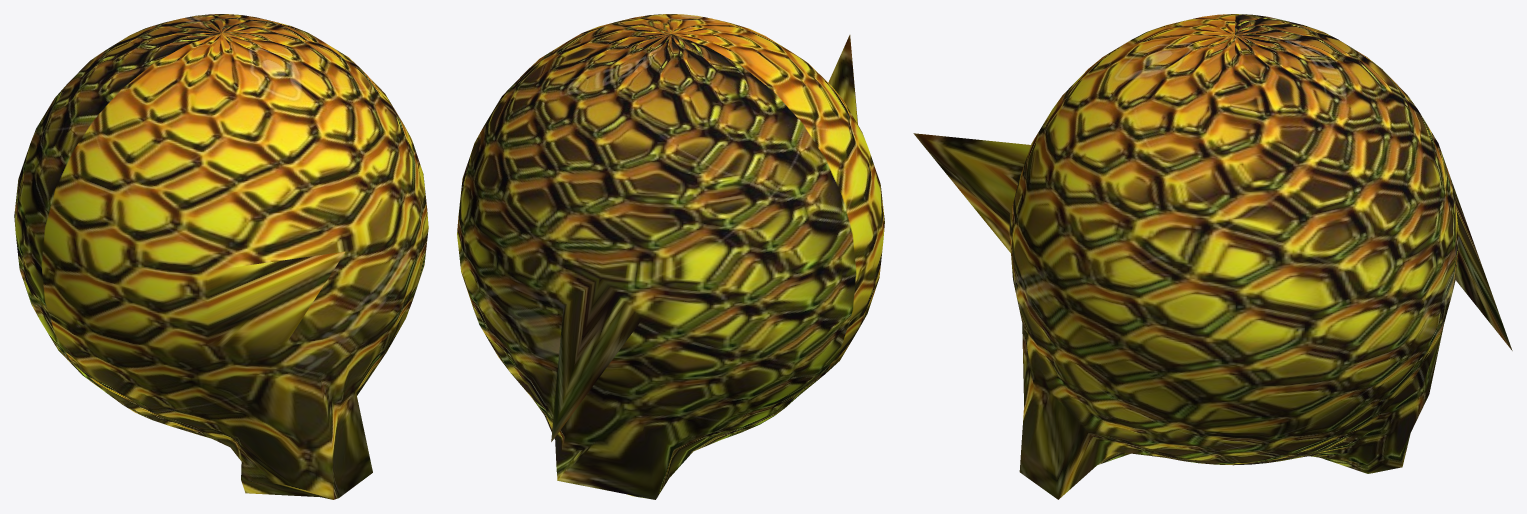
Rendered from ALIEN.glb.
The picture shows the model from 3 angles, left to right: view 1: azimuth 30°, elevation 25°; view 2: azimuth 150°, elevation 25°; view 3: azimuth 270°, elevation 25°; orthographic projection. The views are drawn at different scales.
Parts seen in each view (by area): view 1: Sphere.002; view 2: Sphere.002; view 3: Sphere.002.
Boxes of the visible parts, box(x1,y1,x2,y2) form: Sphere.002: box(14, 14, 428, 499); Sphere.002: box(457, 14, 884, 499); Sphere.002: box(913, 14, 1512, 499).
Bounding box in the file's own units: 0.9292 × 0.9963 × 1.24.
1 material, 1 textured.
